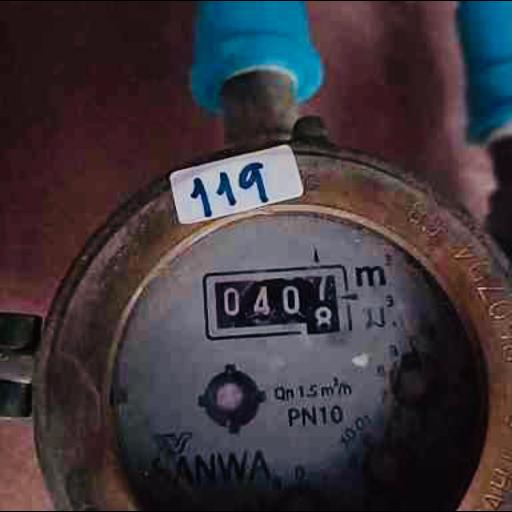0: (215, 281, 250, 330), (276, 276, 307, 324)
4: (247, 279, 278, 328)
7: (301, 273, 341, 335)
border_water_meter_number: (200, 264, 352, 342)
